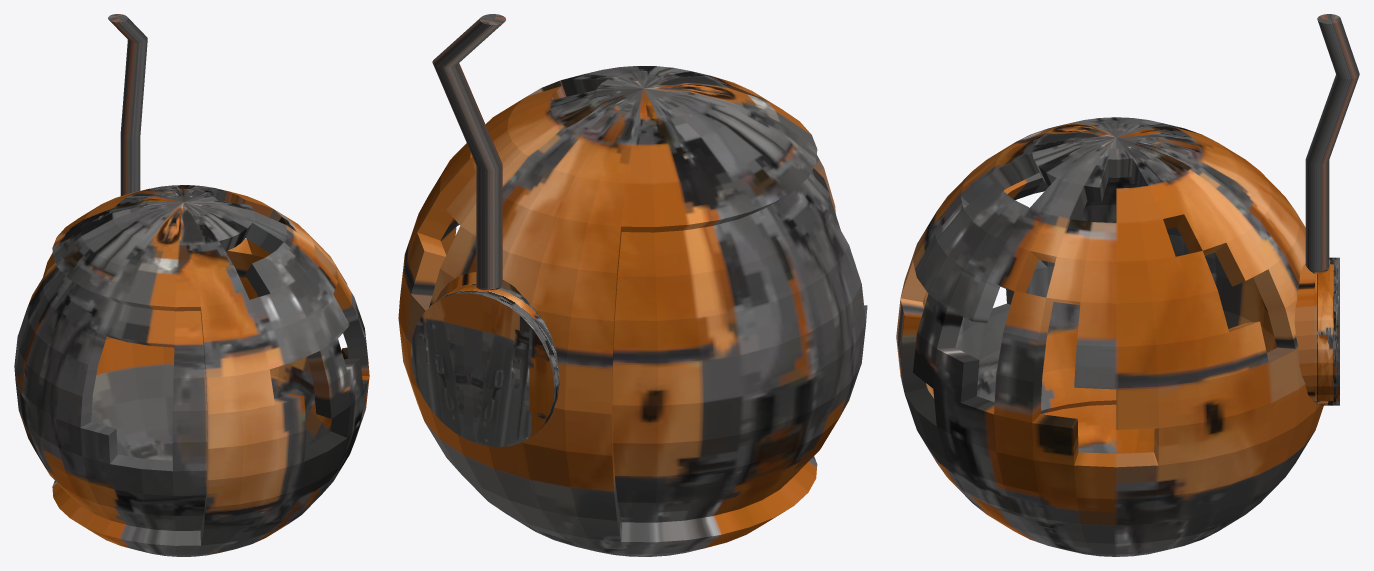
Rendered from item-broken-helm.glb.
3 views of the same model, side by side, from view 1: azimuth 30°, elevation 25°; view 2: azimuth 150°, elevation 25°; view 3: azimuth 270°, elevation 25° (orthographic). The views are drawn at different scales.
Size of the model in its own units: 1.91 by 2.65 by 2.11.
1 material, 1 textured.
